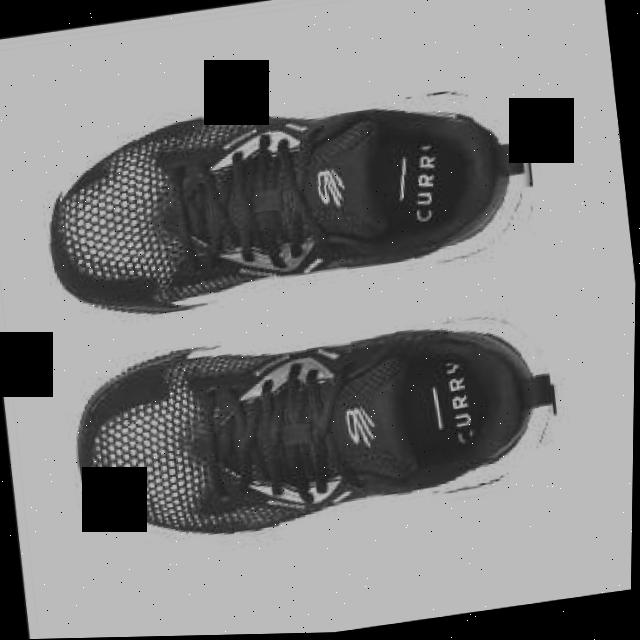shoe: (64, 298, 570, 566), (40, 62, 544, 326), (68, 314, 555, 548), (44, 85, 531, 317)
